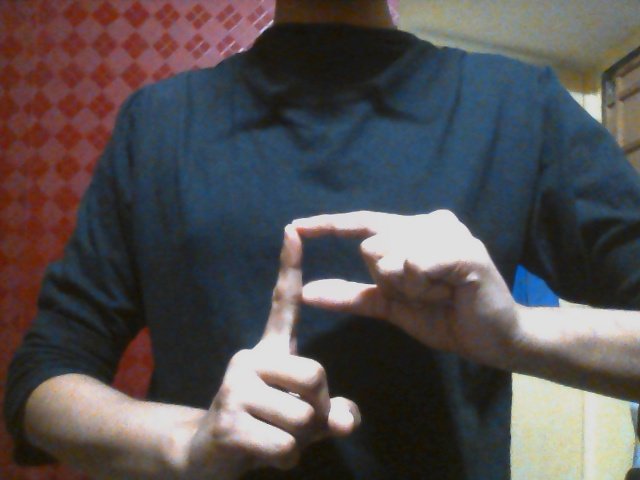P: (216, 206, 489, 467)
